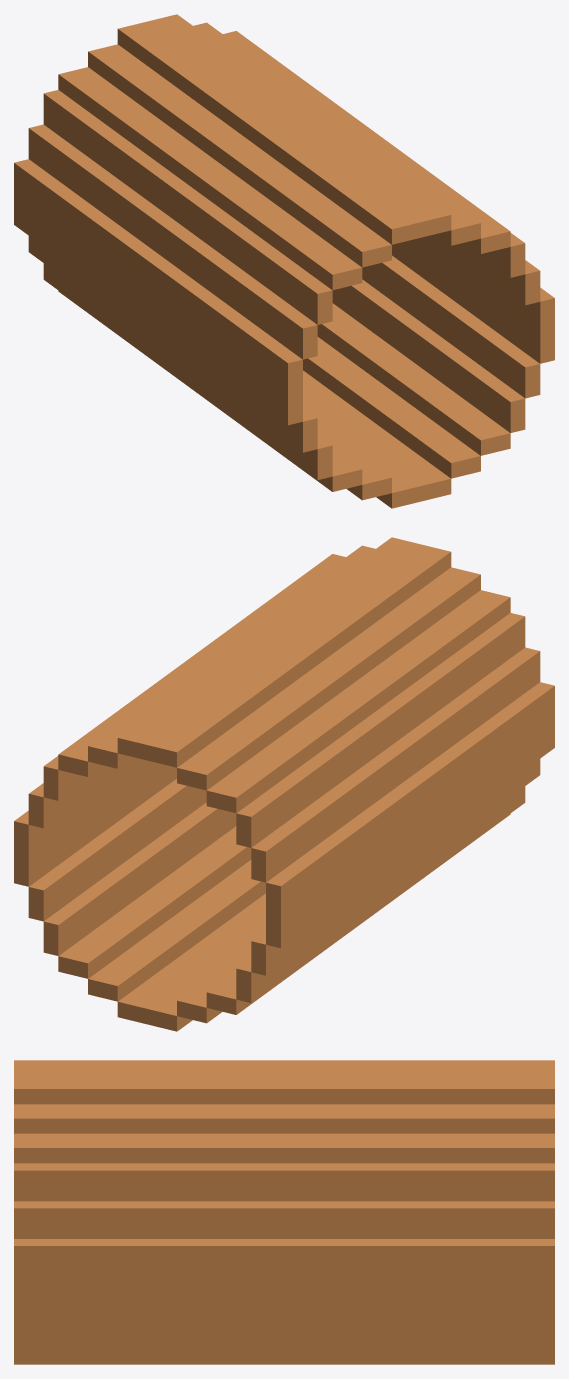
The model's file is ilac_prop.fbx.
The picture shows the model from 3 angles, top to bottom: view 1: azimuth 30°, elevation 25°; view 2: azimuth 150°, elevation 25°; view 3: azimuth 270°, elevation 25°; orthographic projection.
Parts seen in each view (by area): view 1: generated; view 2: generated; view 3: generated.
Boxes of the visible parts, box(x1,y1,x2,y2) form: generated: box(14, 14, 554, 508); generated: box(14, 537, 554, 1031); generated: box(14, 1060, 554, 1364).
Size of the model in its own units: 180 by 180 by 320.
